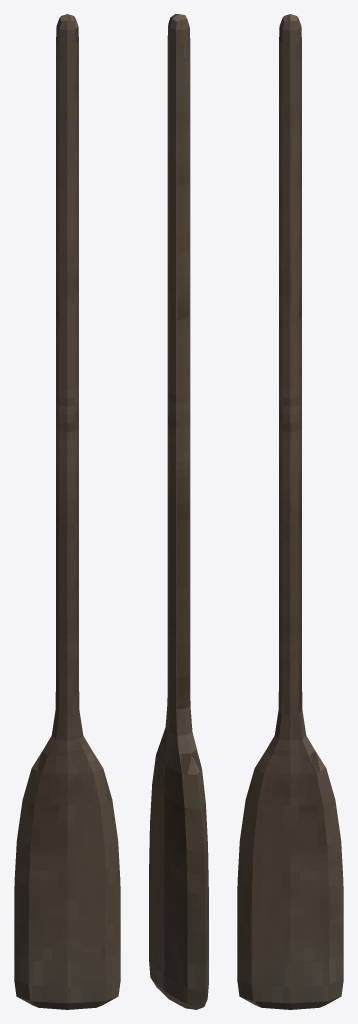
The model's file is oar.glb.
3 views of the same model, side by side, from view 1: azimuth 90°, elevation 25°; view 2: azimuth 210°, elevation 25°; view 3: azimuth 270°, elevation 25° (orthographic).
Parts seen in each view (by area): view 1: Cube; view 2: Cube; view 3: Cube.
Part boxes in pixels (left/top/right/bottom): Cube: left=14, top=14, right=120, bottom=1009; Cube: left=149, top=14, right=208, bottom=1009; Cube: left=237, top=14, right=343, bottom=1009.
Size of the model in its own units: 0.1175 by 3.75 by 0.365.
1 material, 1 textured.
